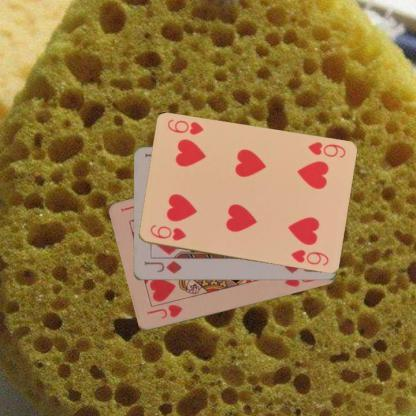6h: (305, 140, 347, 160), (148, 222, 188, 242)
Jd: (141, 255, 187, 275)
Jh: (143, 302, 184, 320)
